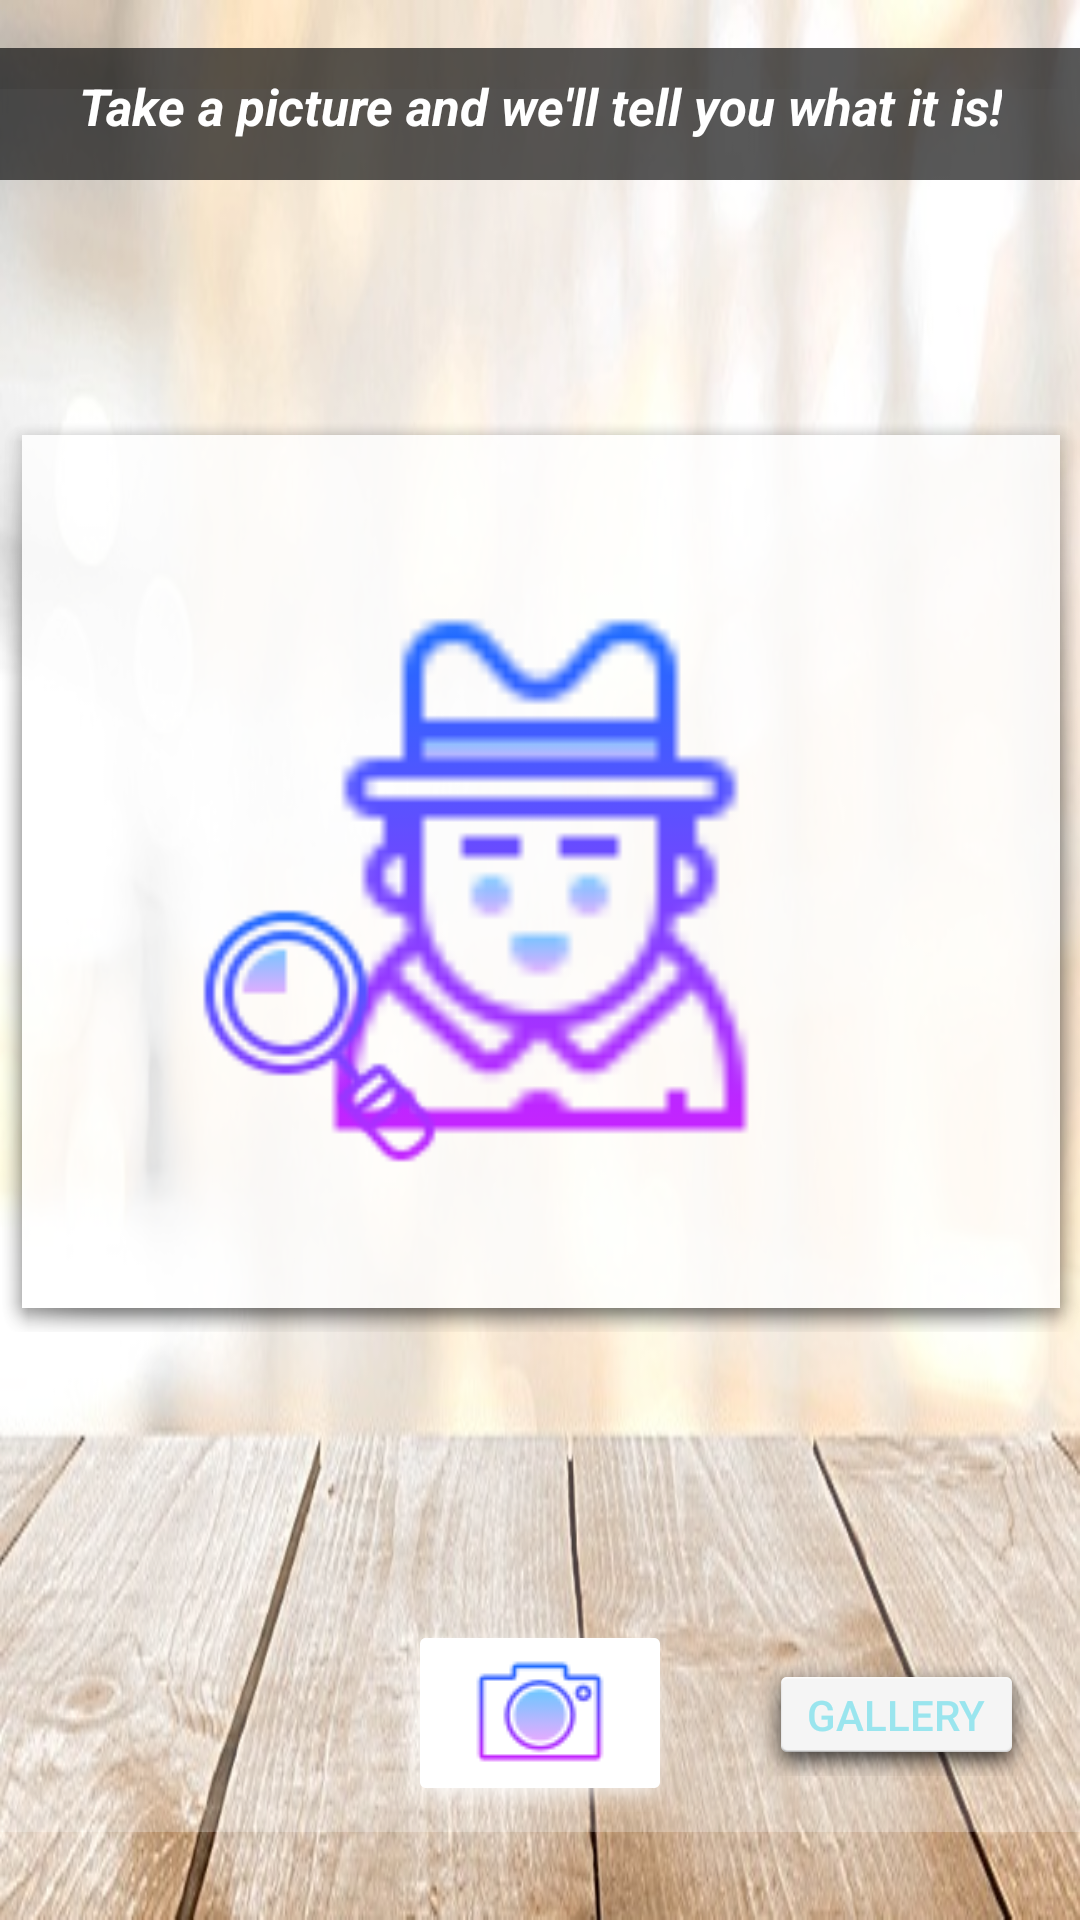

Where icons sit on this 1080×1920 app screen, as (x1, y1, x2, y2):
camera: (396, 1614, 684, 1812)
